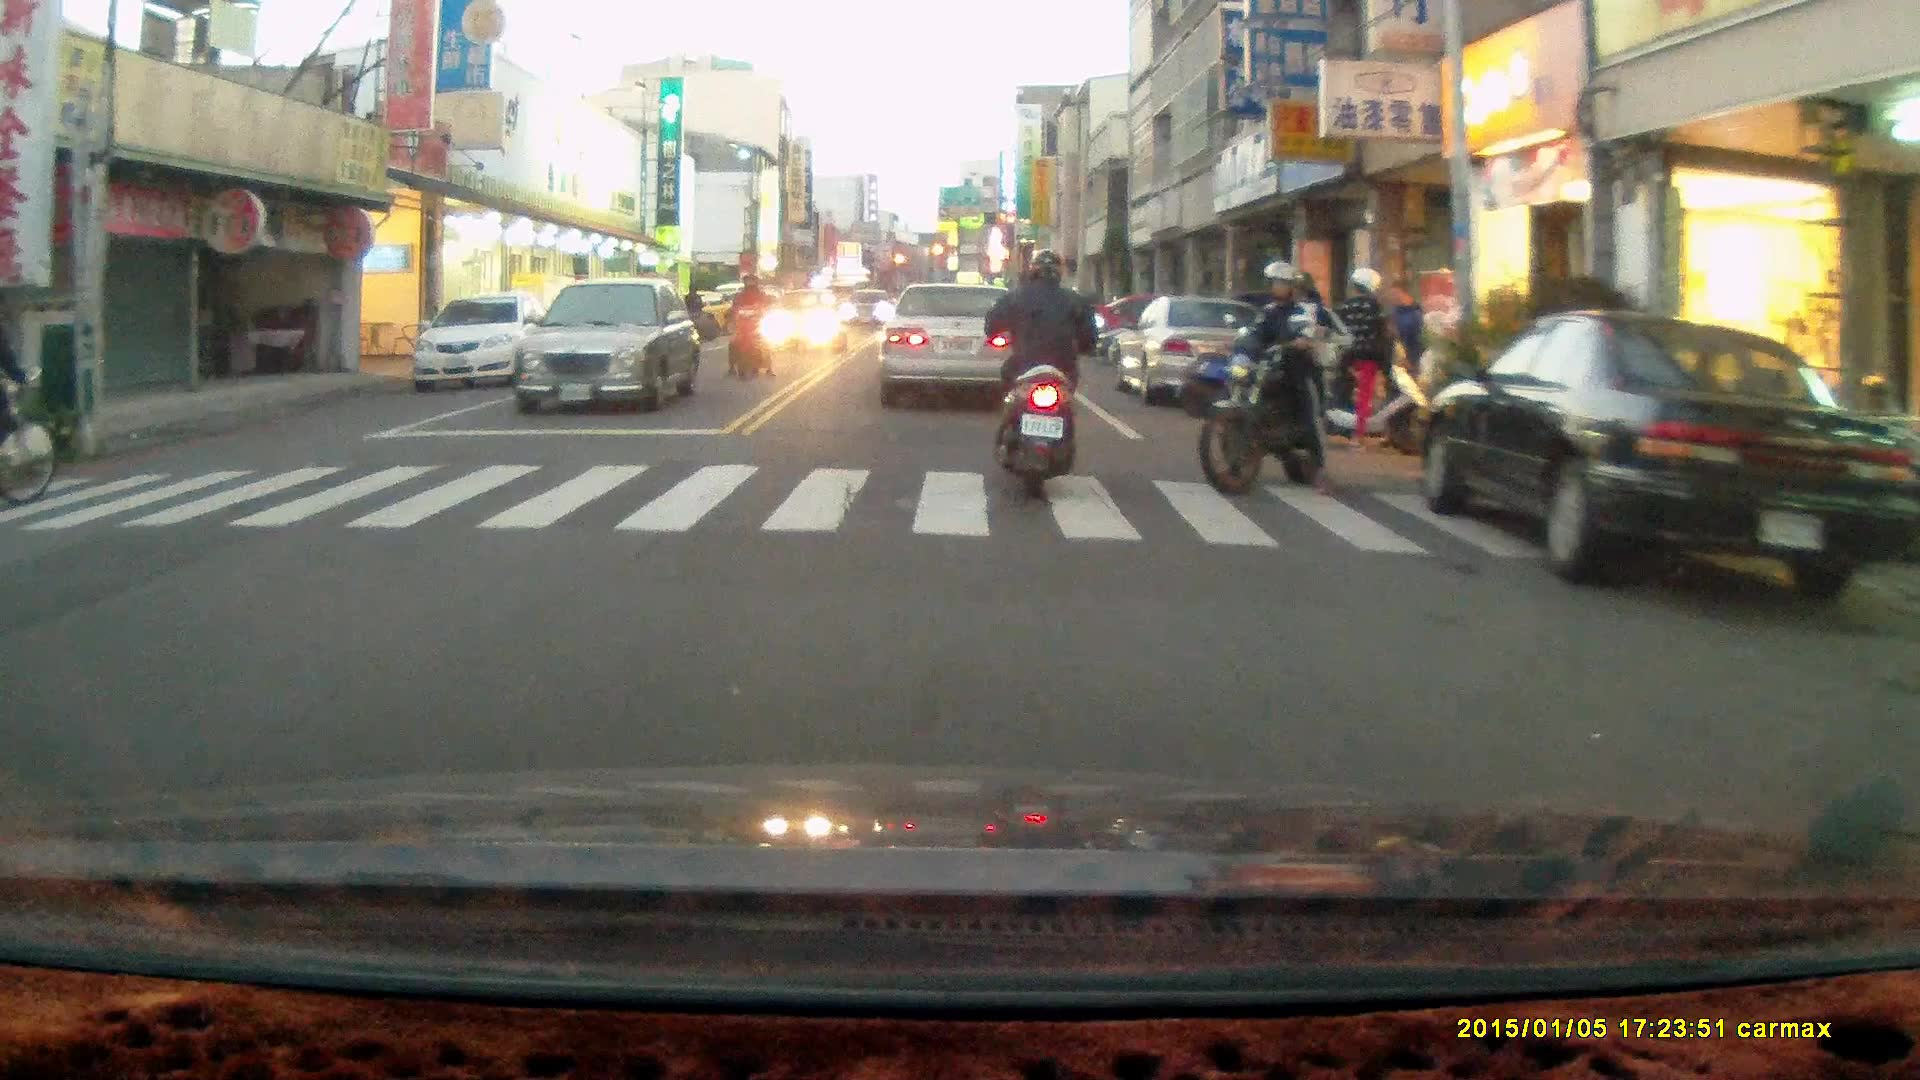pedestrian: (1340, 266, 1391, 442), (1381, 280, 1429, 422), (677, 277, 703, 350)
rider: (1194, 257, 1362, 494), (986, 244, 1104, 495), (0, 310, 59, 509), (721, 272, 775, 382)
vehicle: (1429, 313, 1910, 600), (514, 277, 706, 417), (875, 285, 1030, 409), (1107, 295, 1282, 404), (410, 290, 563, 396), (758, 288, 848, 361)
